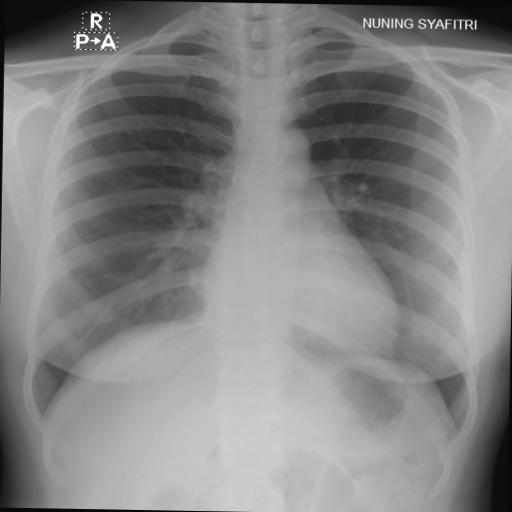normal: (16, 8, 490, 450)
